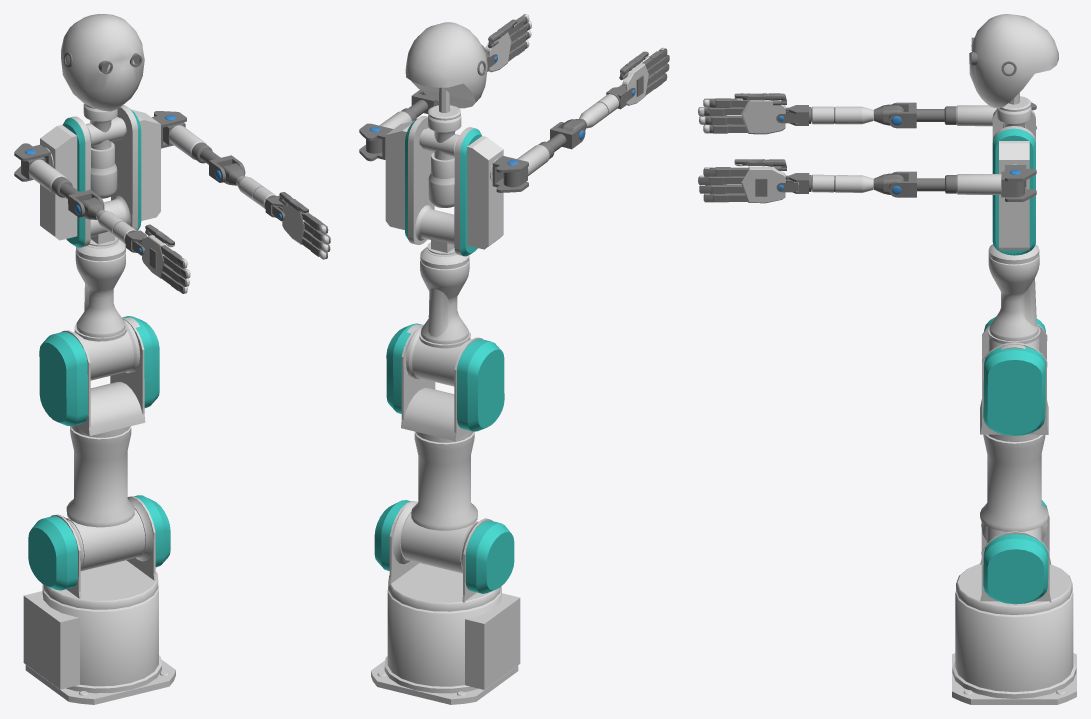
File: TelesarV.fbx
The picture shows the model from 3 angles, left to right: view 1: azimuth 30°, elevation 25°; view 2: azimuth 150°, elevation 25°; view 3: azimuth 270°, elevation 25°; orthographic projection. The views are drawn at different scales.
Parts seen in each view (by area): view 1: Base, Body3, Body2, Body1, Head, Body4, Body5, RLArmAttachment, Body6, LArmAttachment, RShoulderY, LShoulderY (+7 smaller); view 2: Base, Body3, Body2, Body1, Body5, Body4, Head, RLArmAttachment, Body6, LArmAttachment, RShoulderY, RArmZ (+6 smaller); view 3: Base, Body1, Body3, Head, Body2, Body4, LArmAttachment, Body5, LShoulderY, RArmZ, LArmZ, LeftHand (+5 smaller).
Boxes of the visible parts, box(x1,y1,x2,y2) form: Base: box(23, 584, 175, 704); Body3: box(39, 316, 159, 437); Body2: box(60, 426, 153, 571); Body1: box(28, 495, 170, 609); Head: box(61, 14, 144, 111); Body4: box(73, 239, 140, 380); Body5: box(63, 105, 141, 247); RLArmAttachment: box(40, 124, 77, 240); Body6: box(83, 104, 126, 198); LArmAttachment: box(131, 109, 160, 220); RShoulderY: box(21, 149, 72, 197); LShoulderY: box(163, 115, 212, 163); Base: box(371, 586, 520, 704); Body3: box(386, 323, 504, 442); Body2: box(393, 431, 488, 573); Body1: box(374, 500, 514, 611); Body5: box(405, 116, 481, 256); Body4: box(406, 247, 471, 386); Head: box(405, 22, 487, 112); RLArmAttachment: box(466, 136, 503, 249); Body6: box(419, 115, 461, 207); LArmAttachment: box(385, 120, 414, 229); RShoulderY: box(503, 141, 554, 187); RArmZ: box(579, 85, 627, 128); Base: box(952, 591, 1076, 704); Body1: box(956, 500, 1072, 614); Body3: box(980, 317, 1048, 441); Head: box(969, 14, 1058, 108); Body2: box(980, 434, 1048, 562); Body4: box(988, 244, 1040, 351); LArmAttachment: box(999, 141, 1029, 250); Body5: box(992, 109, 1035, 255); LShoulderY: box(945, 169, 1024, 197); RArmZ: box(785, 105, 873, 125); LArmZ: box(785, 173, 873, 193); LeftHand: box(741, 166, 785, 203).
Size of the model in its own units: 39.76 by 151 by 78.42.
